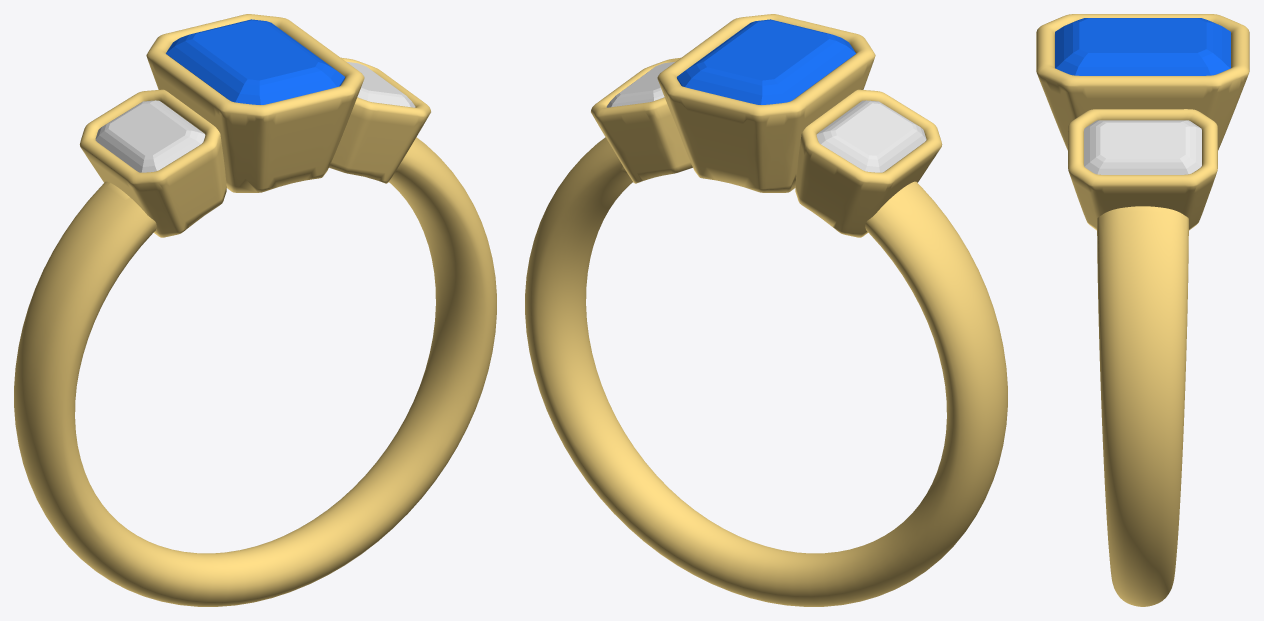
File: bluesapphire-emerald-yellowgold-bezelset-taperedband-3stone.glb
The picture shows the model from 3 angles, left to right: view 1: azimuth 30°, elevation 25°; view 2: azimuth 150°, elevation 25°; view 3: azimuth 270°, elevation 25°; orthographic projection.
Visible parts, largest first — view 1: metal.002, stone.001, side.001, side.005; view 2: metal.002, stone.001, side.001, side.005; view 3: metal.002, stone.001, side.005.
Boxes of the visible parts, x1,y1,x2,y2 form: metal.002: (14,14,496,606); stone.001: (166,19,344,104); side.001: (95,100,205,172); side.005: (346,61,415,107); metal.002: (525,14,1007,606); stone.001: (677,19,855,104); side.001: (816,100,926,172); side.005: (606,61,675,107); metal.002: (1036,14,1249,606); stone.001: (1055,18,1230,75); side.005: (1084,120,1201,174).
Bounding box in the file's own units: 20.49 × 22.94 × 8.11.
